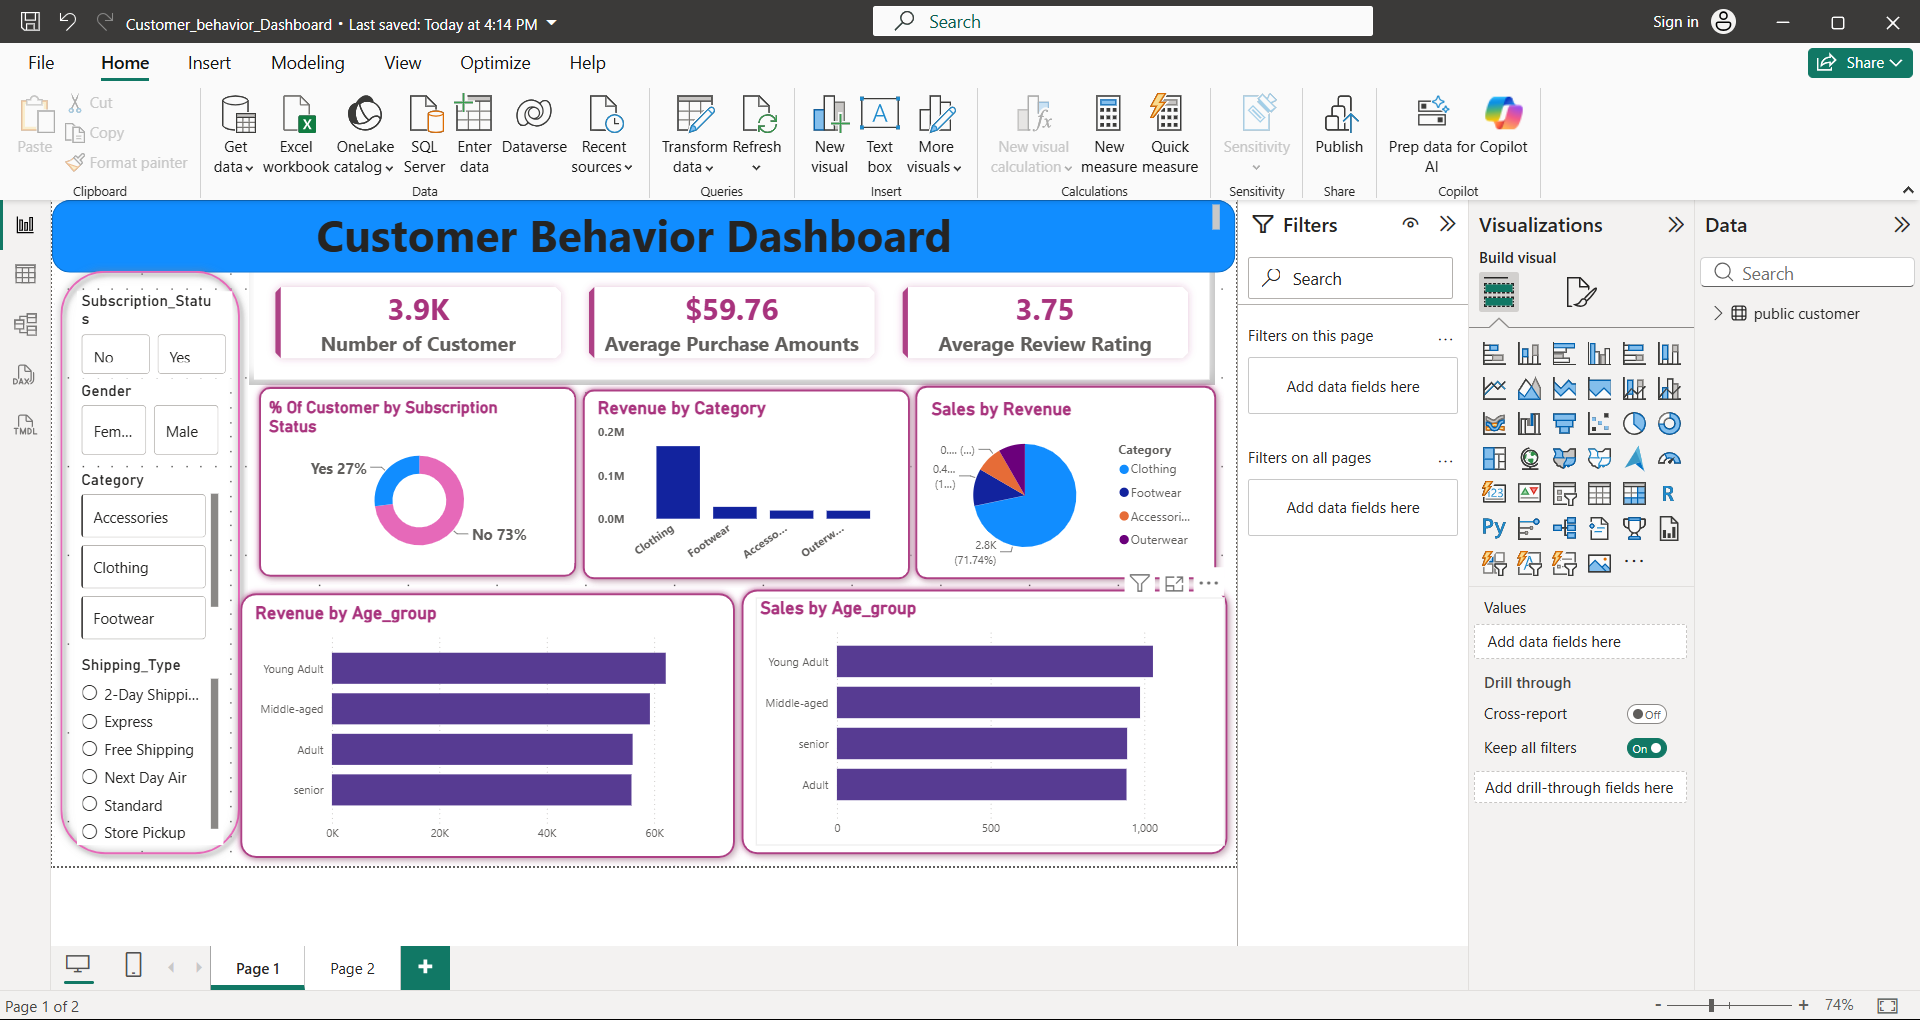

The dashboard page shown, as its layout file describes it:
{"tool":"powerbi","page":{"name":"Page 1","canvas":[1280,720],"ordinal":0},"visuals":[{"type":"cardVisual","fields":{"Data":["public customer.Number of Customer","public customer.Average Purchase Amount 2","public customer.Average Review Rating"]},"box":[213.6,66.3,1045.2,133.9],"z":0},{"type":"textbox","box":[0,58.6,1268.6,12.9],"z":1000},{"type":"shape","box":[215,193.4,361,223.1],"z":2000},{"type":"shape","box":[924.8,192,343.4,227.2],"z":3000},{"type":"shape","box":[0,0,1280,78.6],"z":4000},{"type":"textbox","box":[0,0,1268.6,65.7],"z":5000},{"type":"shape","box":[0,67.6,212.3,649],"z":6000},{"type":"pieChart","title":"Sales by Revenue","fields":{"Category":["public customer.Category1"],"Y":["CountNonNull(public customer.purchase_amount)"]},"box":[946.5,215,300.2,187.9],"z":7000},{"type":"advancedSlicerVisual","title":"Gender","fields":{"Values":["public customer.gender"]},"box":[27,196.1,158.2,85.2],"z":8000},{"type":"listSlicer","title":"Shipping_Type","fields":{"Values":["public customer.shipping_type"]},"box":[27,492.2,158.2,205.5],"z":9000},{"type":"shape","box":[565.2,196.1,371.8,223.1],"z":10000},{"type":"donutChart","title":"% Of Customer by Subscription Status","fields":{"Category":["public customer.subscription_status"],"Y":["CountNonNull(public customer.customer_id)"]},"box":[229.9,213.6,335.3,178.5],"z":11000},{"type":"clusteredColumnChart","title":"Revenue by Category","fields":{"Y":["Sum(public customer.purchase_amount)"],"Category":["public customer.Category"]},"box":[585.5,213.6,331.3,189.3],"z":12000},{"type":"advancedSlicerVisual","title":"Subscription_Status","fields":{"Values":["public customer.subscription_status"]},"box":[27,98.7,167.7,94.6],"z":13000},{"type":"advancedSlicerVisual","fields":{"Values":["public customer.Category"]},"box":[27,292.1,158.2,190.6],"z":14000},{"type":"shape","box":[194.7,416.5,553,304.2],"z":15000},{"type":"shape","box":[736.9,412.4,543.5,304.2],"z":16000},{"type":"clusteredBarChart","title":"Revenue by Age_group","fields":{"Y":["Sum(public customer.purchase_amount)"],"Category":["public customer.age_group"]},"box":[215,435.4,509.7,267.7],"z":17000},{"type":"clusteredBarChart","title":"Sales by Age_group","fields":{"Category":["public customer.age_group"],"Y":["CountNonNull(public customer.customer_id)"]},"box":[761.2,430,507,267.7],"z":18000}]}

Visuals, with their boxes on the page's 1280x720 design canvas (x1, y1, x2, y2). These are canvas units, not pixel positions in the 1920x1020 screenshot, which may show the page scaled, cropped or inside an application window:
cardVisual - public customer.Number of Customer x public customer.Average Purchase Amount 2: {"x1": 214, "y1": 66, "x2": 1259, "y2": 200}
textbox: {"x1": 0, "y1": 59, "x2": 1269, "y2": 72}
shape: {"x1": 215, "y1": 193, "x2": 576, "y2": 416}
shape: {"x1": 925, "y1": 192, "x2": 1268, "y2": 419}
shape: {"x1": 0, "y1": 0, "x2": 1280, "y2": 79}
textbox: {"x1": 0, "y1": 0, "x2": 1269, "y2": 66}
shape: {"x1": 0, "y1": 68, "x2": 212, "y2": 717}
"Sales by Revenue" pieChart: {"x1": 946, "y1": 215, "x2": 1247, "y2": 403}
"Gender" advancedSlicerVisual: {"x1": 27, "y1": 196, "x2": 185, "y2": 281}
"Shipping_Type" listSlicer: {"x1": 27, "y1": 492, "x2": 185, "y2": 698}
shape: {"x1": 565, "y1": 196, "x2": 937, "y2": 419}
"% Of Customer by Subscription Status" donutChart: {"x1": 230, "y1": 214, "x2": 565, "y2": 392}
"Revenue by Category" clusteredColumnChart: {"x1": 586, "y1": 214, "x2": 917, "y2": 403}
"Subscription_Status" advancedSlicerVisual: {"x1": 27, "y1": 99, "x2": 195, "y2": 193}
advancedSlicerVisual - public customer.Category: {"x1": 27, "y1": 292, "x2": 185, "y2": 483}
shape: {"x1": 195, "y1": 416, "x2": 748, "y2": 721}
shape: {"x1": 737, "y1": 412, "x2": 1280, "y2": 717}
"Revenue by Age_group" clusteredBarChart: {"x1": 215, "y1": 435, "x2": 725, "y2": 703}
"Sales by Age_group" clusteredBarChart: {"x1": 761, "y1": 430, "x2": 1268, "y2": 698}
